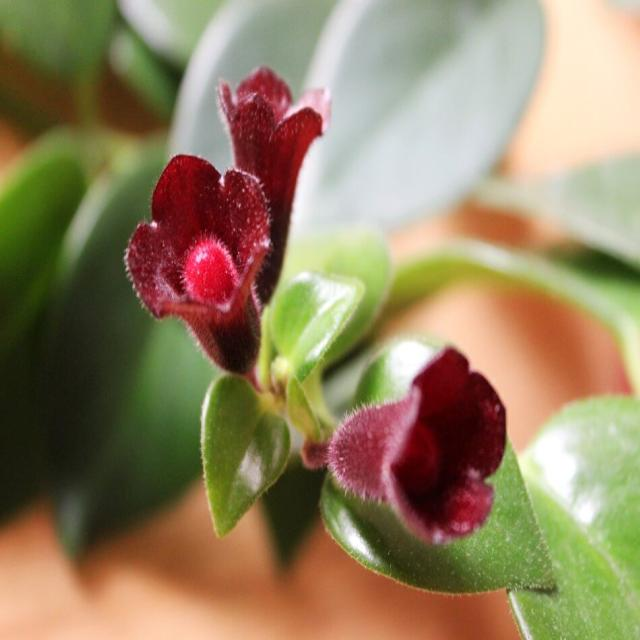Lipstick-Plant: (114, 55, 516, 577)
